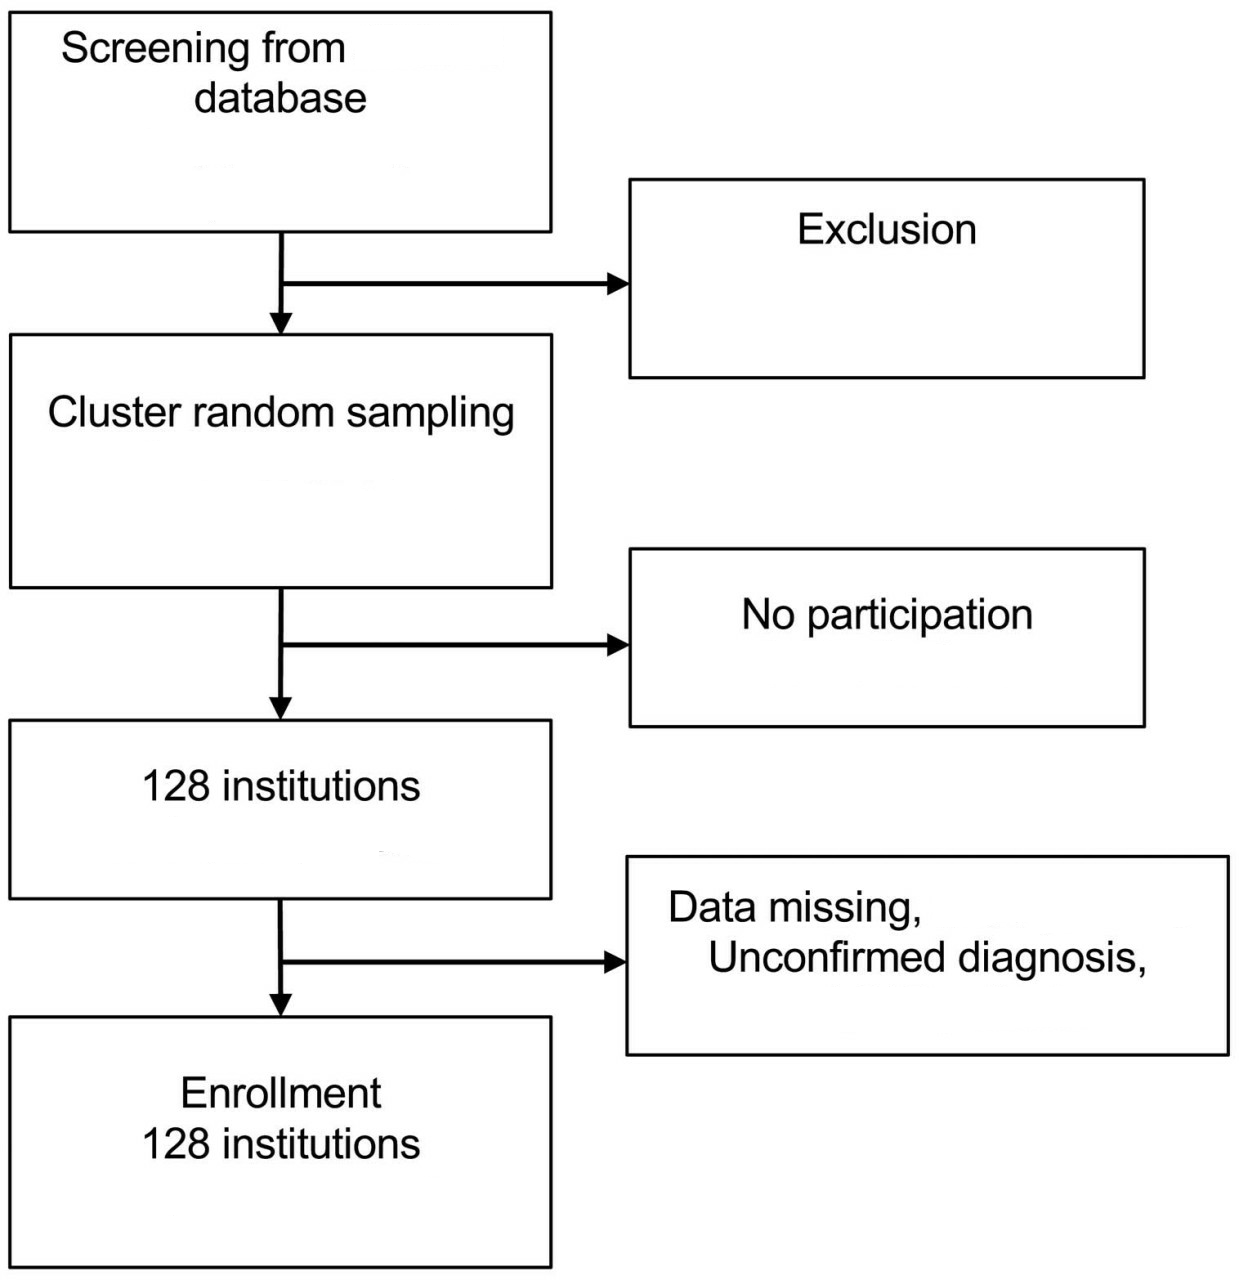arrow: (287, 627, 638, 661), (287, 262, 632, 295), (279, 943, 636, 971), (261, 901, 297, 1015), (265, 592, 291, 721), (269, 229, 295, 334)
process: (3, 326, 563, 597), (1, 1009, 561, 1280), (614, 849, 1239, 1061), (3, 5, 559, 235), (622, 171, 1152, 389), (3, 710, 561, 906), (619, 539, 1159, 739)
text: (663, 880, 1152, 987), (43, 383, 520, 453), (59, 24, 369, 126), (134, 1066, 426, 1166), (734, 584, 1036, 641), (138, 765, 427, 808), (789, 201, 985, 251)
